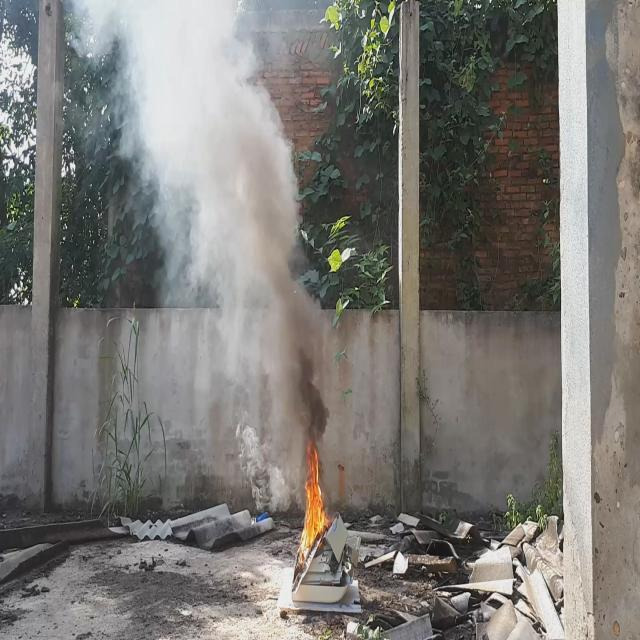Fire: (300, 434, 328, 564)
Smoke: (62, 0, 338, 485)
